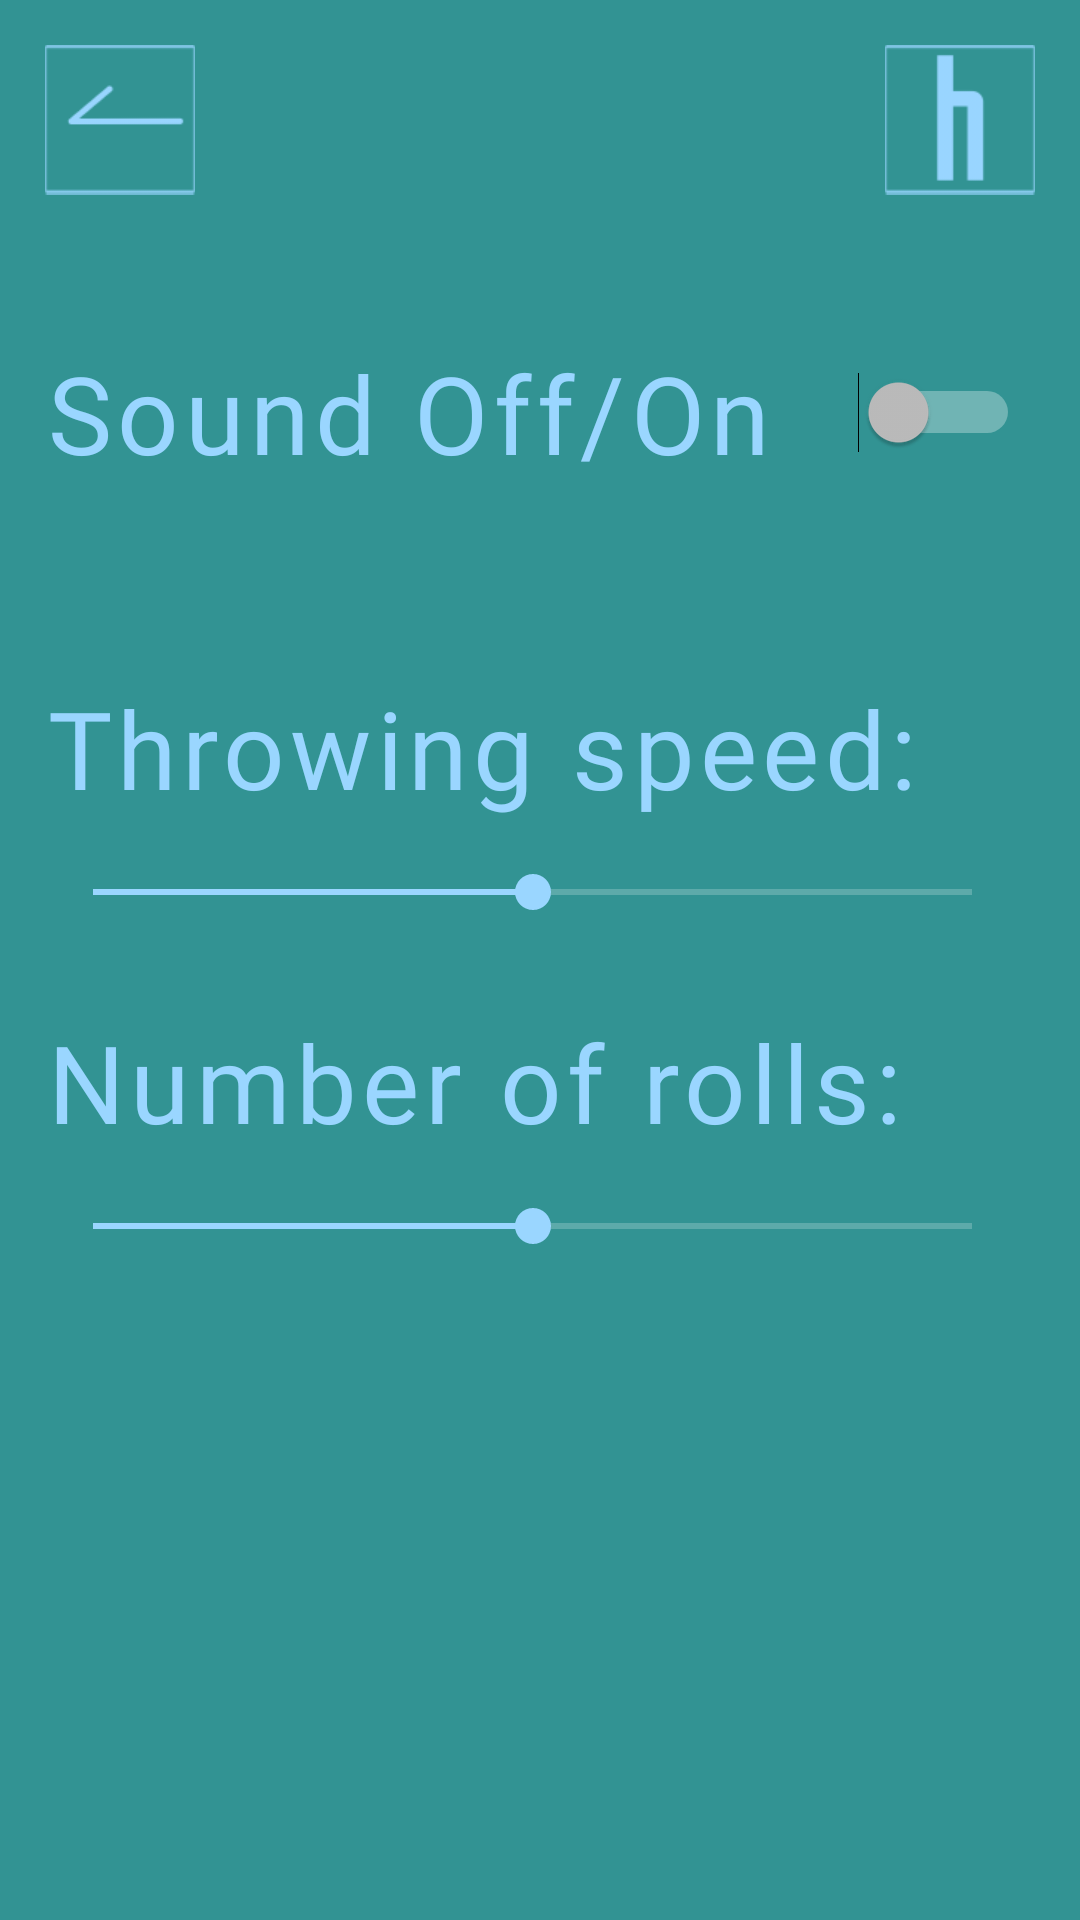

Screen size 1080w x 1920h. Icon name, then its box in pixels as Rect(x1, y1, x2, y2):
back: Rect(45, 45, 195, 195)
mini history: Rect(885, 45, 1035, 195)
